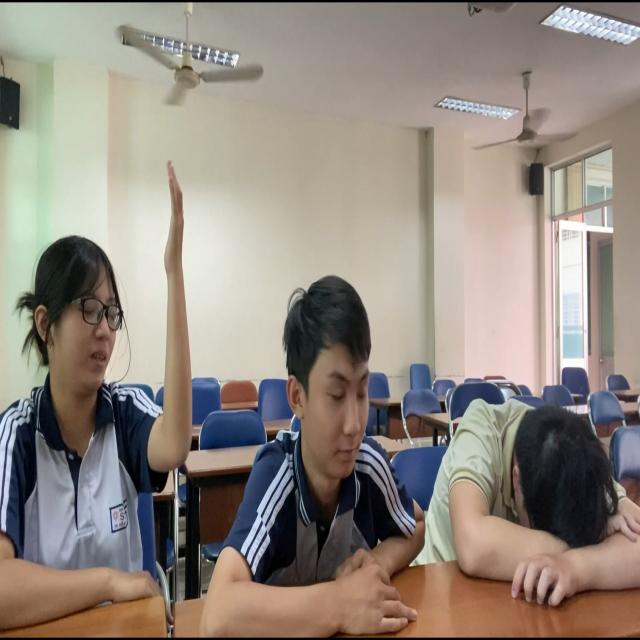raise_hand: (1, 154, 199, 640)
sleep: (404, 385, 640, 640)
